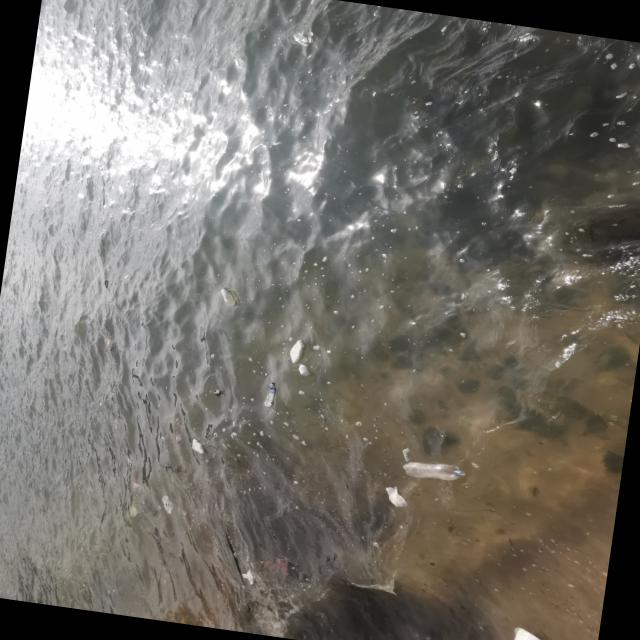can: (214, 389, 223, 398)
foam: (510, 627, 580, 640), (384, 486, 413, 510), (289, 338, 308, 365), (191, 438, 207, 454), (241, 569, 257, 585), (407, 506, 411, 508)
plastic bottle: (404, 458, 469, 485), (220, 288, 238, 306), (265, 381, 277, 408), (299, 364, 313, 378)
